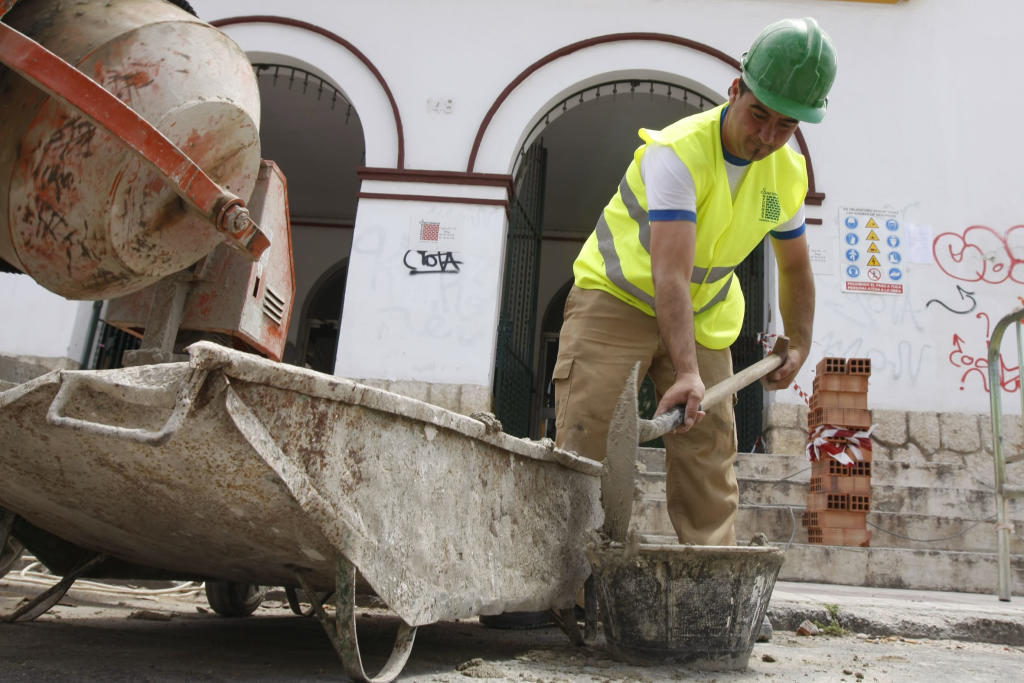casco: (736, 13, 839, 128)
